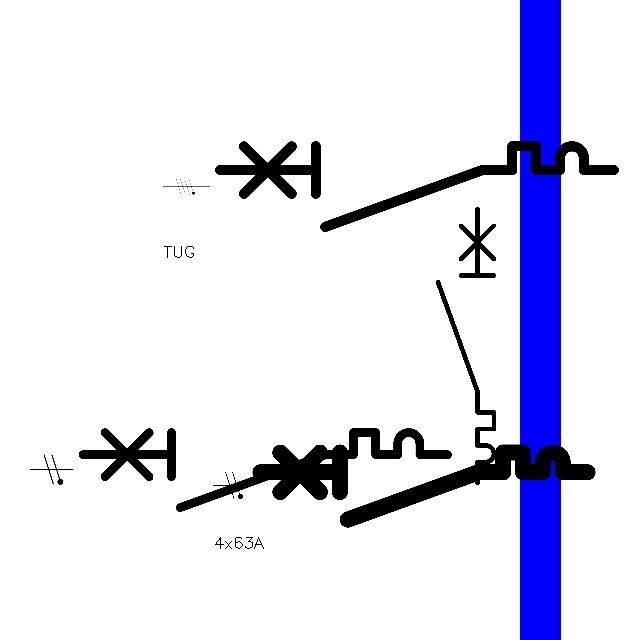interruptor_termomagnetico: (209, 136, 623, 237), (73, 423, 456, 517), (251, 444, 595, 528), (431, 202, 501, 490)
